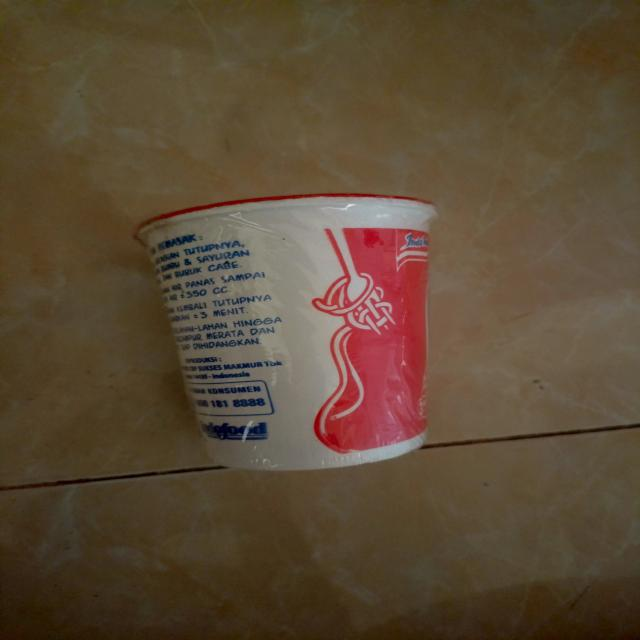popmie-rasa-ayam: (130, 187, 439, 473)
